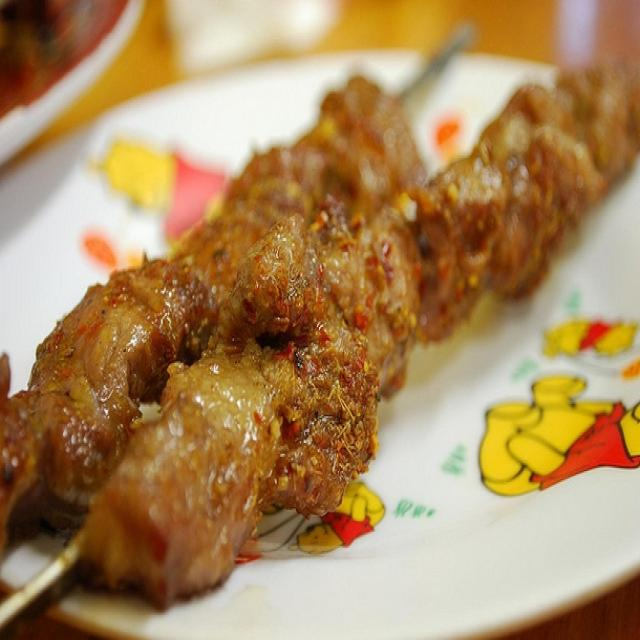烧串烤肉: (16, 20, 612, 604)
